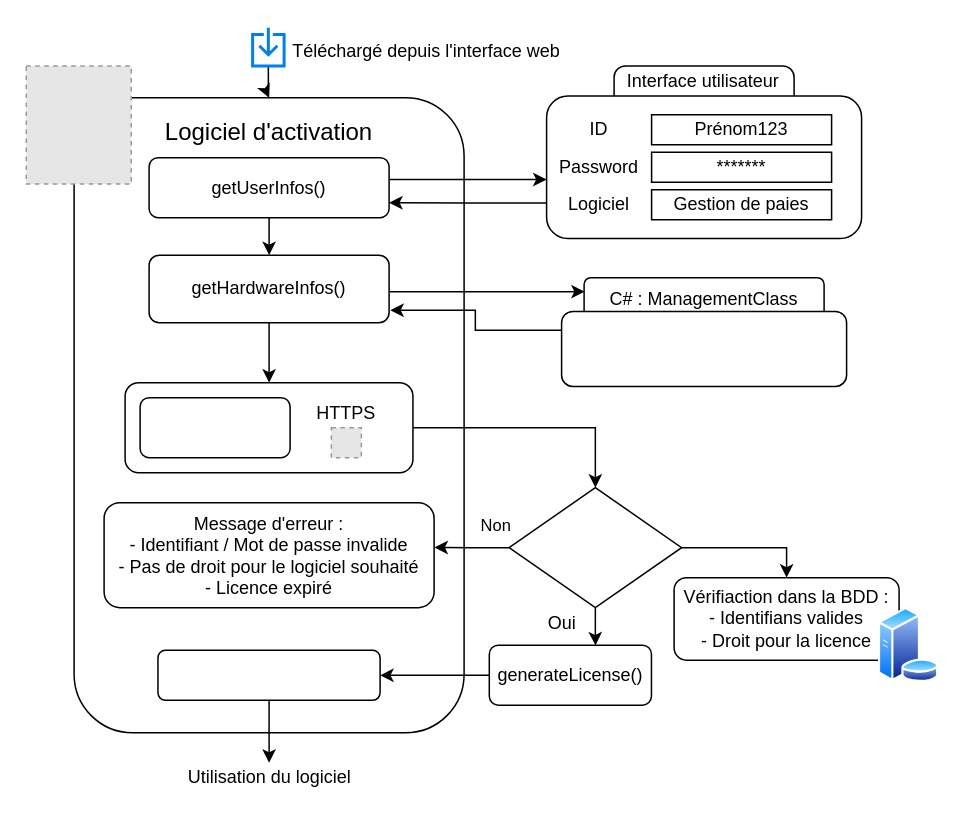
Some shapes in this 966 by 818 pixel diagram are drawn without their labels. Grey dashed boxes stand in for pictures. Each missing label, with the centre of its shape:
"- Identifiant carte réseau - Autre id. unique" goes at [703,348].
"downloadLicense()" goes at [268,674].
"isValidRequest()" goes at [595,547].
"sendRequest()" goes at [214,427].
